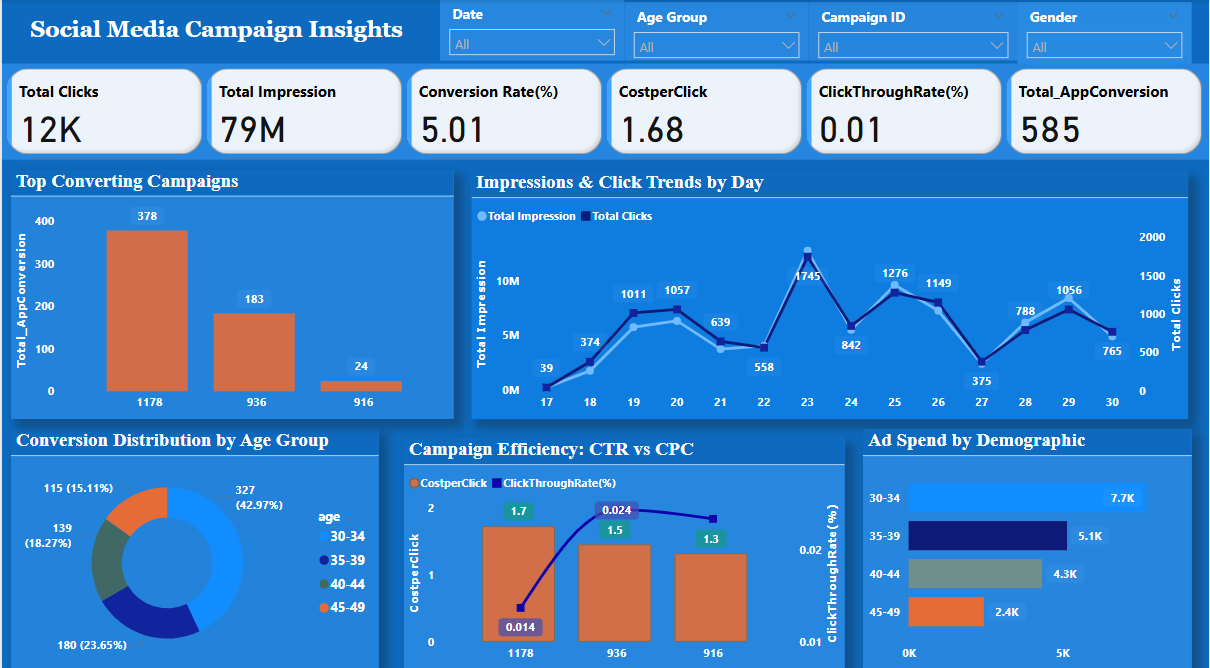

The dashboard page shown, as its layout file describes it:
{"tool":"powerbi","page":{"name":"Social Media Ad Campaign","canvas":[1280,720],"ordinal":0},"visuals":[{"type":"textbox","box":[0,12.7,454.9,41.4],"z":0},{"type":"cardVisual","fields":{"Data":["data.Total Clicks","data.Total Impression","data.Conversion Rate(%)","data.CostperClick","data.CTR(%)","data.Total_AppConversion"]},"box":[0,68.4,1280.4,101.8],"z":1000},{"type":"lineChart","title":"Impressions & Click Trends by Day","fields":{"Category":["data.reporting_start.Variation.Date Hierarchy.Day"],"Y2":["data.Total Clicks"],"Y":["data.Total Impression"]},"box":[497.9,182.9,760.3,262.5],"z":2000},{"type":"lineClusteredColumnComboChart","title":"Campaign Efficiency: CTR vs CPC","fields":{"Category":["data.campaign_id"],"Y":["data.CostperClick"],"Y2":["data.CTR(%)"]},"box":[426.3,466,467.6,245],"z":3000},{"type":"barChart","title":"Ad Spend by Demographic","fields":{"Y":["data.Total_Spend"],"Category":["data.age"]},"box":[913,456.5,348.3,254.5],"z":4000},{"type":"donutChart","title":"Conversion Distribution by Age Group","fields":{"Category":["data.age"],"Y":["CountNonNull(data.approved_conversion)"]},"box":[9.5,456.5,389.7,254.5],"z":5000},{"type":"clusteredColumnChart","title":"Top Converting Campaigns","fields":{"Category":["data.campaign_id"],"Y":["data.Total_AppConversion"]},"box":[9.5,181.3,469.2,264],"z":6000},{"type":"slicer","fields":{"Values":["data.reporting_start"]},"box":[464.5,0,195.6,65.2],"z":7000},{"type":"slicer","fields":{"Values":["data.age"]},"box":[660.1,3.2,195.6,62],"z":8000},{"type":"slicer","fields":{"Values":["data.gender"]},"box":[1076.8,3.2,184.5,65.2],"z":9000},{"type":"slicer","fields":{"Values":["data.campaign_id"]},"box":[855.7,3.2,221.1,62],"z":10000}]}

Visuals, with their boxes in screenshot pixels (x1, y1, x2, y2), scaled from the page's 1280x720 canvas onto the 1210x668 screenshot:
textbox: x1=0, y1=12, x2=430, y2=50
cardVisual - data.Total Clicks x data.Total Impression: x1=0, y1=63, x2=1209, y2=158
"Impressions & Click Trends by Day" lineChart: x1=471, y1=170, x2=1189, y2=413
"Campaign Efficiency: CTR vs CPC" lineClusteredColumnComboChart: x1=403, y1=432, x2=845, y2=660
"Ad Spend by Demographic" barChart: x1=863, y1=424, x2=1192, y2=660
"Conversion Distribution by Age Group" donutChart: x1=9, y1=424, x2=377, y2=660
"Top Converting Campaigns" clusteredColumnChart: x1=9, y1=168, x2=453, y2=413
slicer - data.reporting_start: x1=439, y1=0, x2=624, y2=60
slicer - data.age: x1=624, y1=3, x2=809, y2=60
slicer - data.gender: x1=1018, y1=3, x2=1192, y2=63
slicer - data.campaign_id: x1=809, y1=3, x2=1018, y2=60
